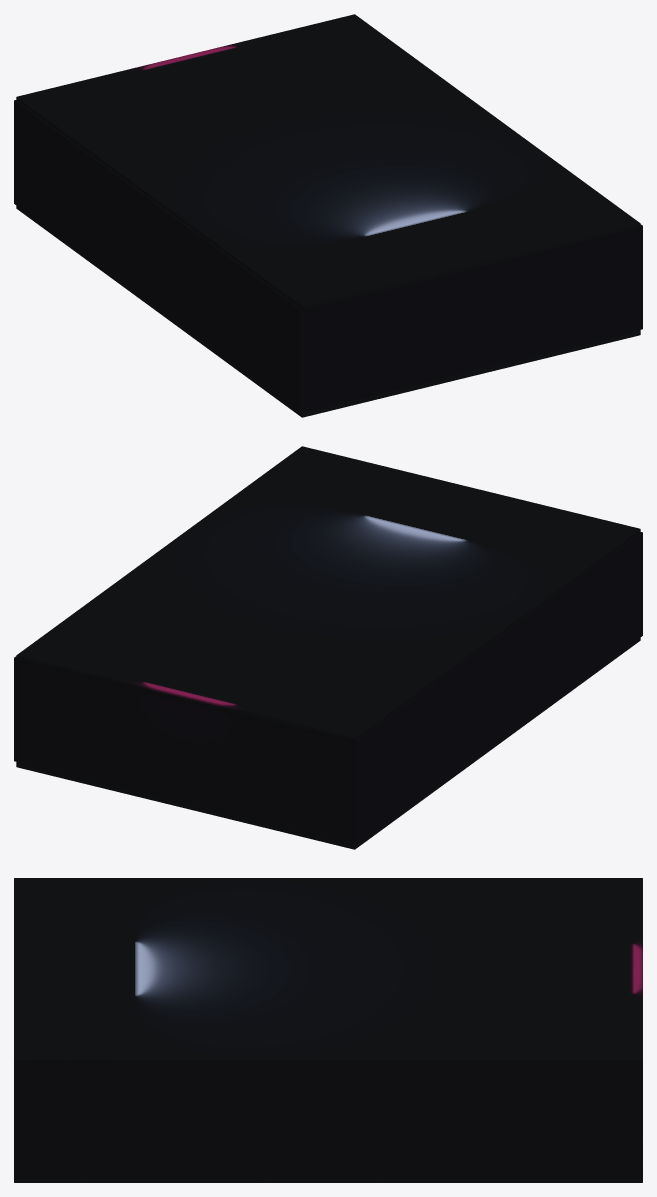
Rendered from neon-boutique.glb.
The picture shows the model from 3 angles, top to bottom: view 1: azimuth 30°, elevation 25°; view 2: azimuth 150°, elevation 25°; view 3: azimuth 270°, elevation 25°; orthographic projection. The views are drawn at different scales.
Visible parts, largest first — view 1: Baked boutique architecture; view 2: Baked boutique architecture; view 3: Baked boutique architecture.
Boxes of the visible parts, x1=… form: Baked boutique architecture: x1=14, y1=14, x2=642, y2=417; Baked boutique architecture: x1=14, y1=446, x2=642, y2=849; Baked boutique architecture: x1=14, y1=878, x2=642, y2=1182.
Bounding box in the file's own units: 13.18 × 4.11 × 19.
3 materials, 1 textured.
